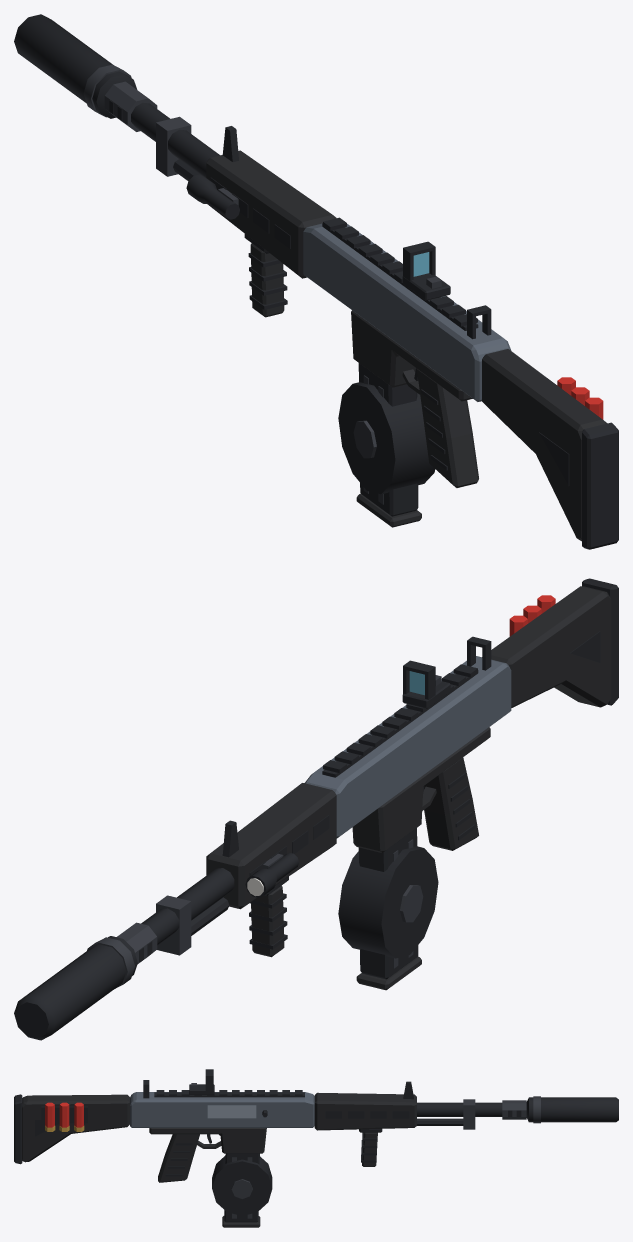
File: auto_shotgun.glb
3 views of the same model, one above another, from view 1: azimuth 30°, elevation 25°; view 2: azimuth 150°, elevation 25°; view 3: azimuth 270°, elevation 25° (orthographic). The views are drawn at different scales.
Visible parts, largest first — view 1: Body, Att_ExtMag, Att_Suppressor, Mag, Att_Grip, Att_Scope, Att_Flashlight; view 2: Body, Att_ExtMag, Att_Suppressor, Mag, Att_Grip, Att_Scope, Att_Flashlight; view 3: Body, Att_ExtMag, Att_Suppressor, Att_Grip, Mag, Att_Scope.
Boxes of the visible parts, left/top/right/bottom form: Body: left=104, top=81, right=618, bottom=549; Att_ExtMag: left=338, top=375, right=435, bottom=494; Att_Suppressor: left=14, top=14, right=137, bottom=118; Mag: left=356, top=363, right=421, bottom=527; Att_Grip: left=244, top=234, right=287, bottom=317; Att_Scope: left=402, top=241, right=450, bottom=300; Att_Flashlight: left=186, top=174, right=239, bottom=219; Body: left=116, top=578, right=618, bottom=964; Att_ExtMag: left=338, top=828, right=438, bottom=958; Att_Suppressor: left=14, top=936, right=137, bottom=1040; Mag: left=356, top=831, right=421, bottom=990; Att_Grip: left=249, top=876, right=288, bottom=957; Att_Scope: left=402, top=660, right=450, bottom=708; Att_Flashlight: left=245, top=852, right=298, bottom=897; Body: left=14, top=1080, right=526, bottom=1182; Att_ExtMag: left=212, top=1153, right=272, bottom=1215; Att_Suppressor: left=526, top=1096, right=618, bottom=1123; Att_Grip: left=359, top=1129, right=382, bottom=1166; Mag: left=222, top=1153, right=260, bottom=1227; Att_Scope: left=189, top=1069, right=214, bottom=1094.
Size of the model in its own units: 0.0892 by 0.3435 by 1.24.
